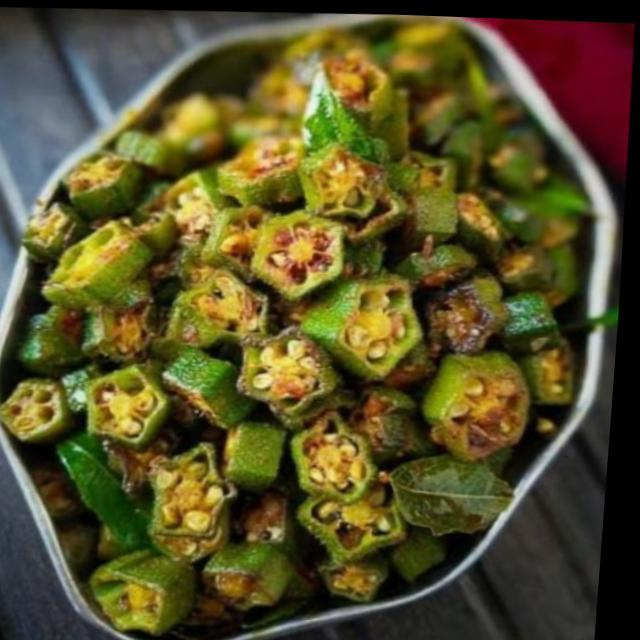VEGGIES: (0, 19, 602, 637)
